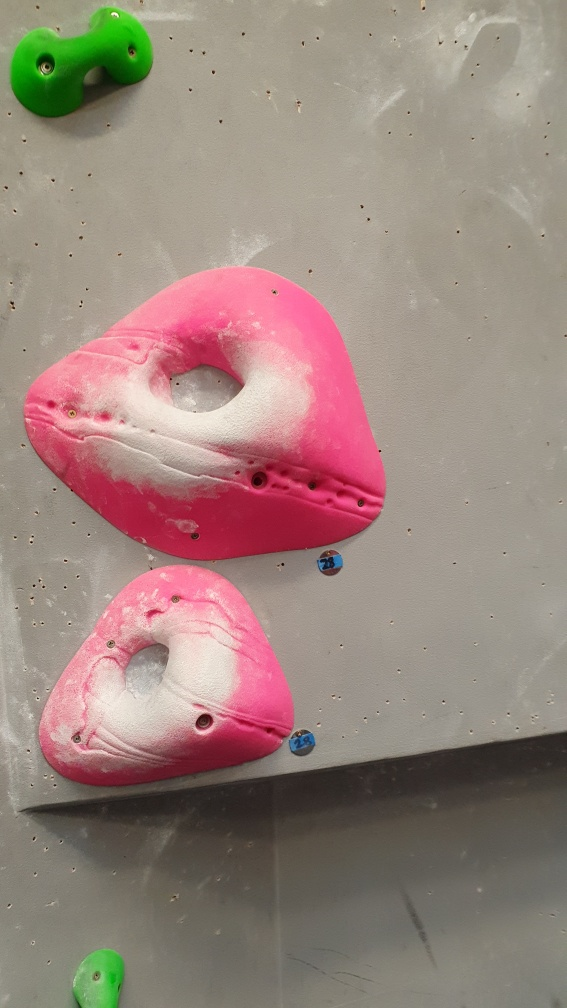Hand Start: (314, 544, 350, 583), (285, 725, 322, 762)
Pocket: (20, 263, 386, 563), (35, 562, 297, 790)
